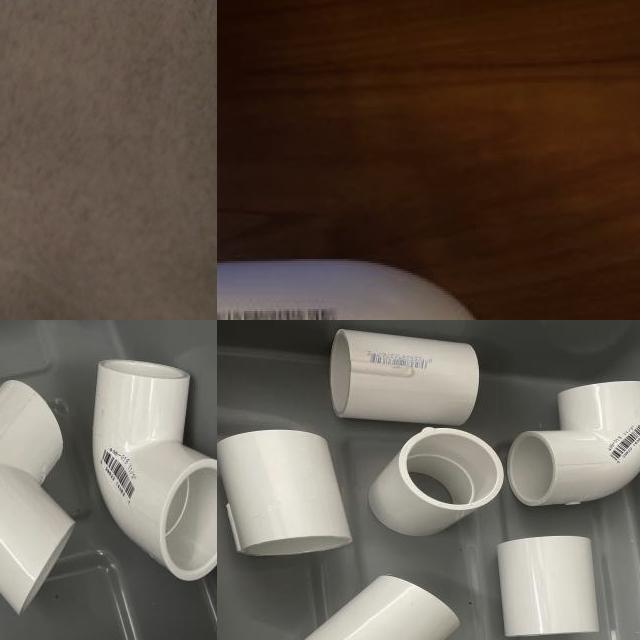L Joint: (91, 359, 217, 585), (505, 381, 640, 510), (217, 259, 477, 320)
T Joint: (0, 386, 77, 617), (301, 575, 461, 640)
